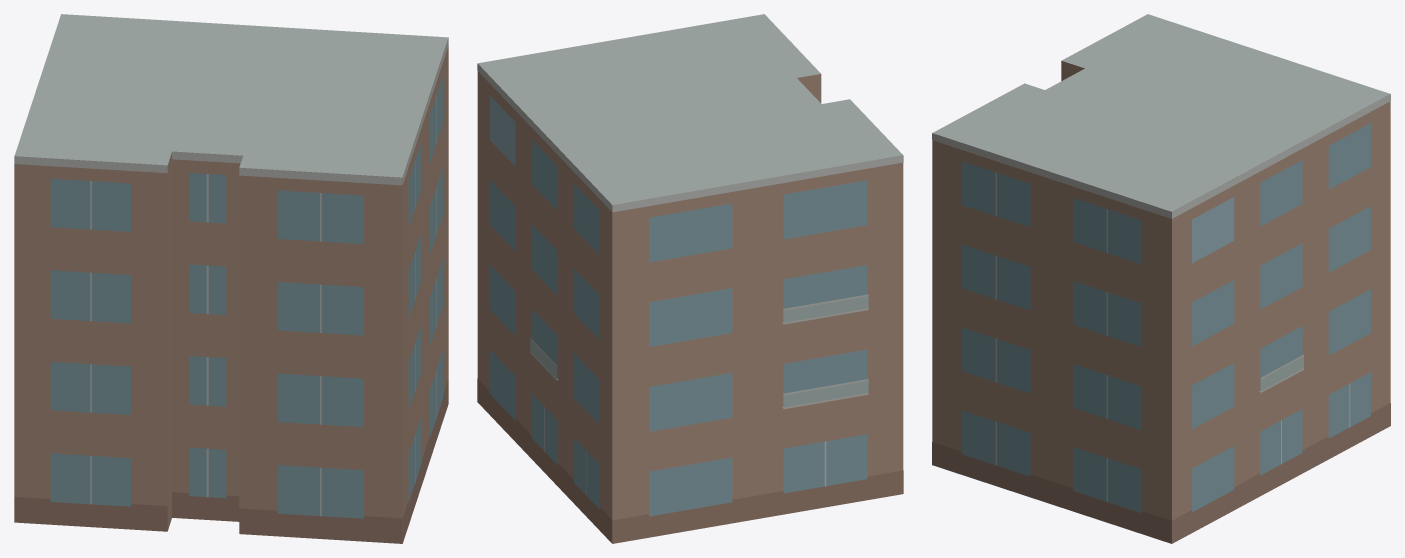
The model's file is survey-upis-32670708.glb.
The picture shows the model from 3 angles, left to right: view 1: azimuth 30°, elevation 25°; view 2: azimuth 150°, elevation 25°; view 3: azimuth 270°, elevation 25°; orthographic projection. The views are drawn at different scales.
Parts seen in each view (by area): view 1: survey-upis-32670708.tmp; view 2: survey-upis-32670708.tmp; view 3: survey-upis-32670708.tmp.
Part boxes in pixels (x1,y1,x2,y2): survey-upis-32670708.tmp: (14, 14, 448, 543); survey-upis-32670708.tmp: (477, 14, 903, 543); survey-upis-32670708.tmp: (932, 14, 1390, 543).
Size of the model in its own units: 14.58 by 11.4 by 14.28.
